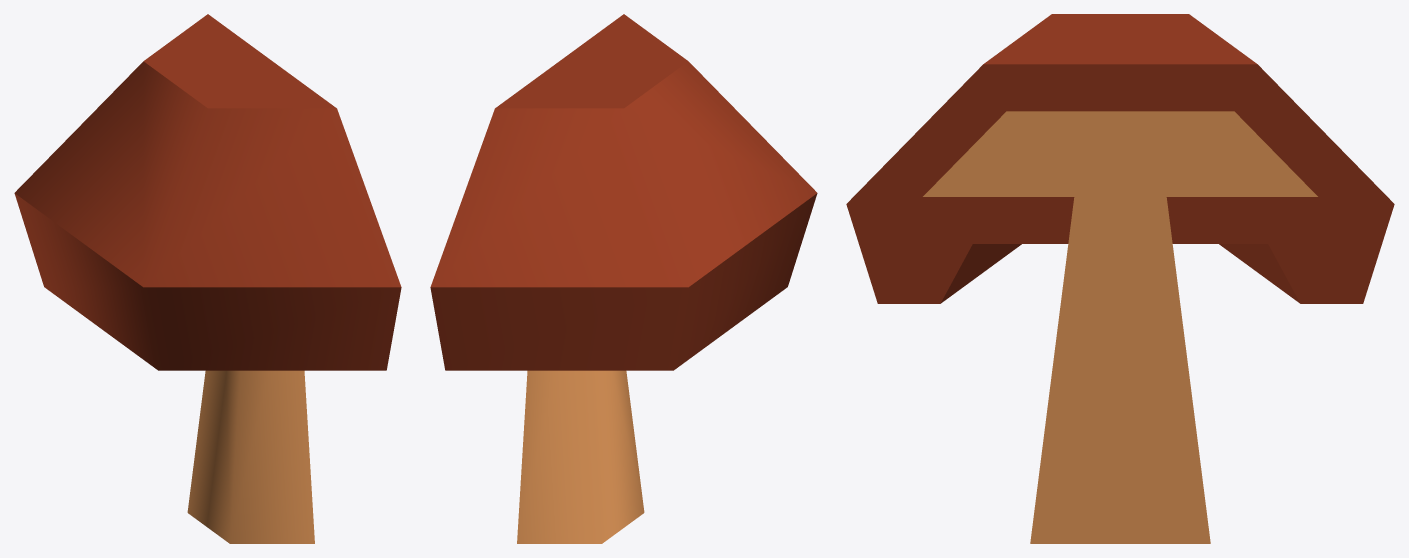
File: mushroomHalf.obj
3 views of the same model, side by side, from view 1: azimuth 30°, elevation 25°; view 2: azimuth 150°, elevation 25°; view 3: azimuth 270°, elevation 25° (orthographic). The views are drawn at different scales.
Parts seen in each view (by area): view 1: mushroomHalf; view 2: mushroomHalf; view 3: mushroomHalf.
Boxes of the visible parts, <box> form: mushroomHalf: <box>14,14,401,543</box>; mushroomHalf: <box>430,14,817,543</box>; mushroomHalf: <box>846,14,1394,543</box>.
Size of the model in its own units: 0.0312 by 0.0696 by 0.0721.
